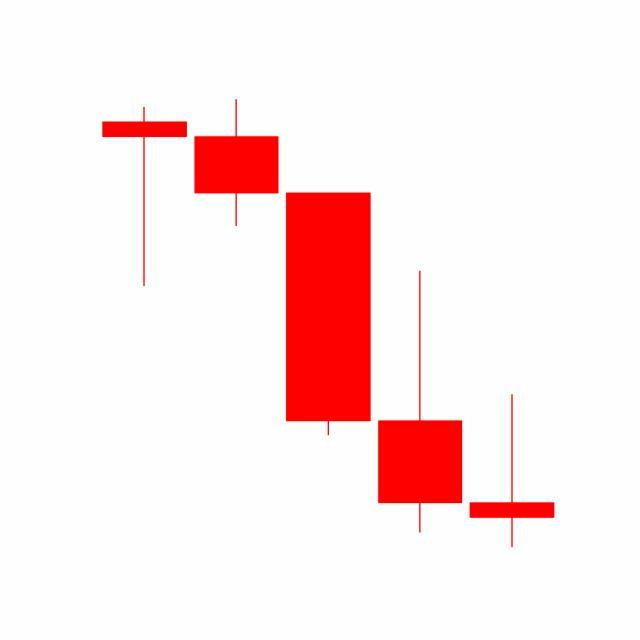Spinning Top: (466, 393, 559, 550)
